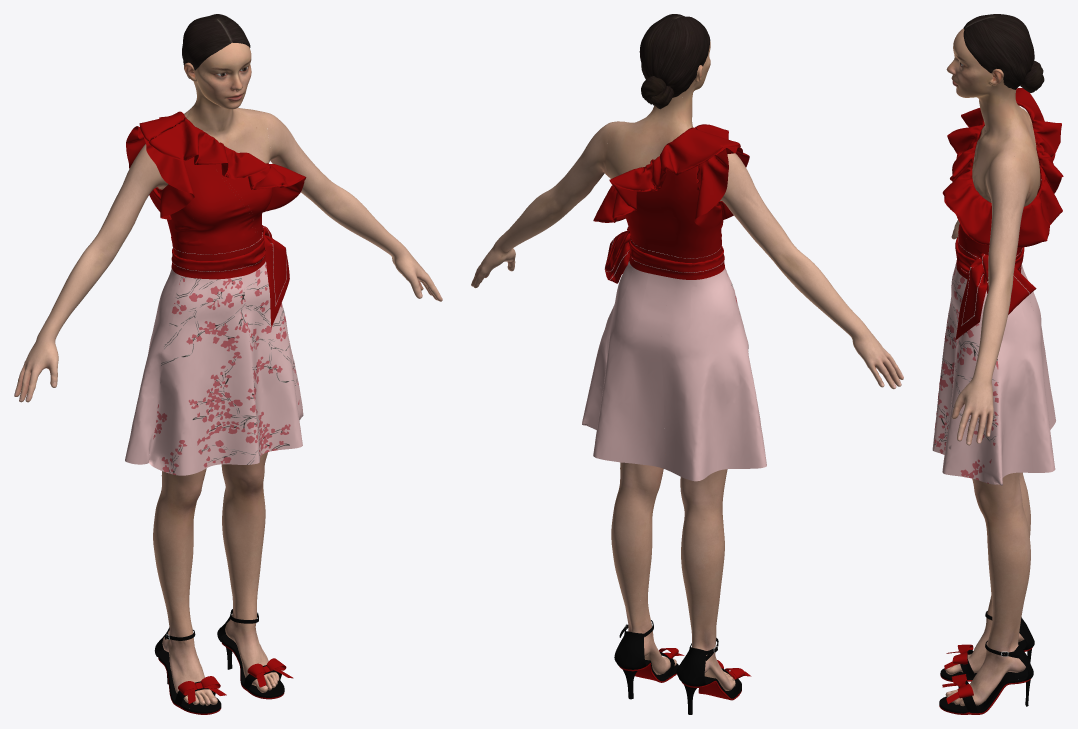
The picture shows the model from 3 angles, left to right: view 1: azimuth 30°, elevation 25°; view 2: azimuth 150°, elevation 25°; view 3: azimuth 270°, elevation 25°; orthographic projection.
Parts seen in each view (by area): view 1: Cloth, Avatar; view 2: Cloth, Avatar; view 3: Avatar, Cloth.
Boxes of the visible parts, x1,y1,x2,y2 form: Cloth: (125,111,306,475); Avatar: (14,14,442,714); Cloth: (582,124,766,481); Avatar: (471,14,903,714); Avatar: (939,14,1044,714); Cloth: (932,88,1063,485).
Size of the model in its own units: 1.1 by 1.67 by 0.2945.
Materials: 20 (17 with a texture image).
